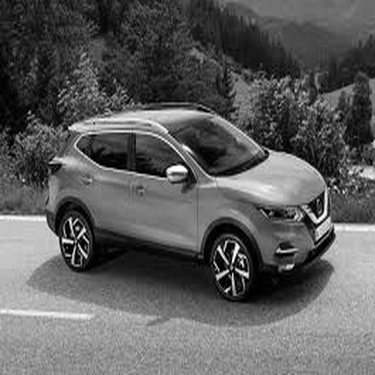car: (30, 88, 343, 309)
